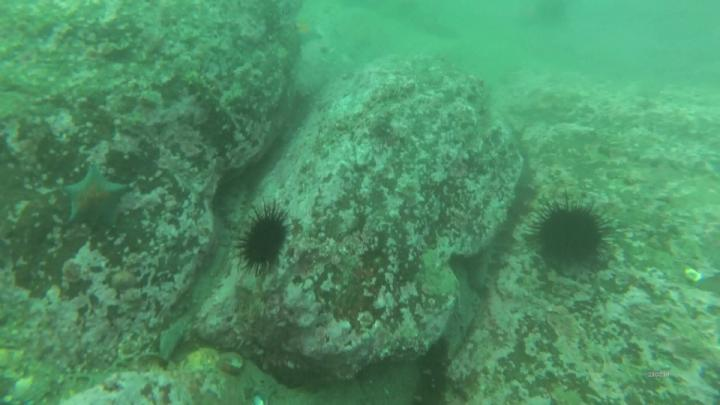echinus: (536, 207, 605, 265), (239, 213, 287, 268)
holothurian: (188, 71, 244, 133)
starfish: (69, 166, 127, 229), (299, 18, 321, 44)
